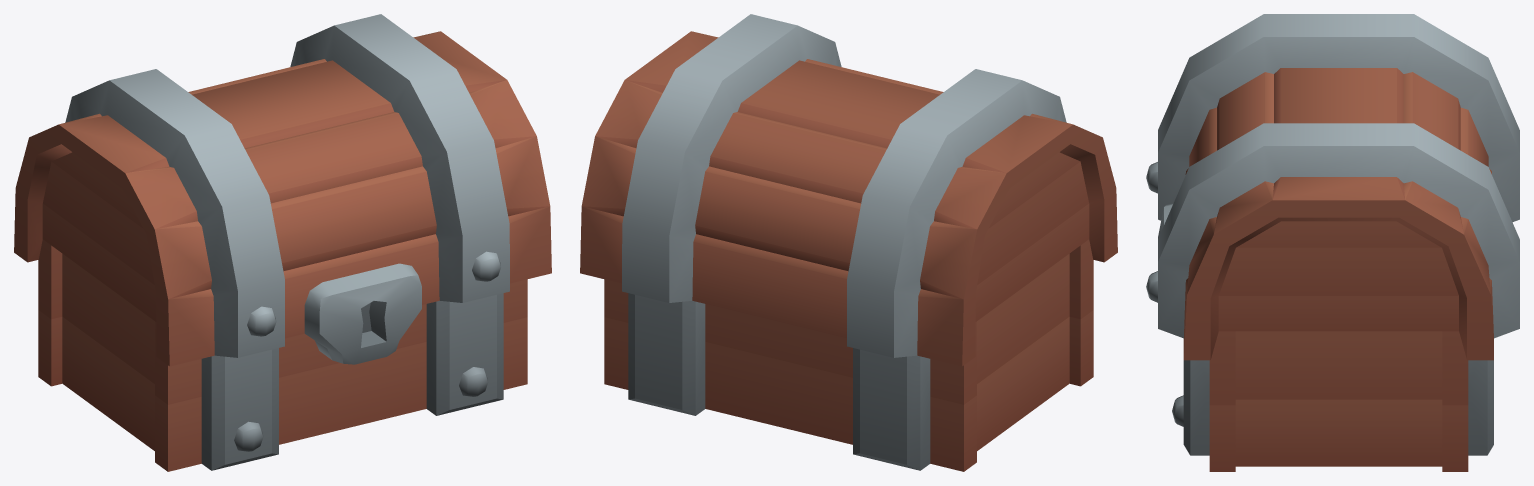
File: chest.gltf
3 renders of one model, left to right at view 1: azimuth 30°, elevation 25°; view 2: azimuth 150°, elevation 25°; view 3: azimuth 270°, elevation 25°, orthographic.
Parts seen in each view (by area): view 1: chest_lid, chest; view 2: chest_lid, chest; view 3: chest_lid, chest.
Part boxes in pixels (<box>): chest_lid: <box>14,14,551,366</box>; chest: <box>38,239,527,471</box>; chest_lid: <box>580,14,1117,366</box>; chest: <box>604,239,1093,471</box>; chest_lid: <box>1146,14,1519,360</box>; chest: <box>1172,331,1493,471</box>.
Size of the model in its own units: 1.7 by 1.3 by 1.45.
Materials: 1 (1 with a texture image).
